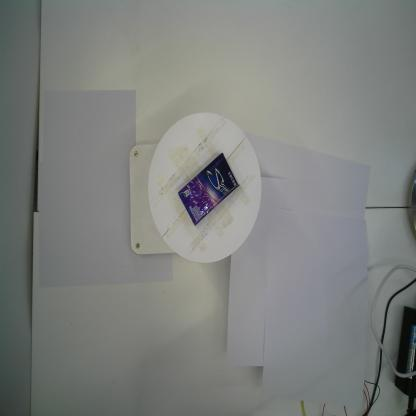Gum: (178, 152, 240, 227)
